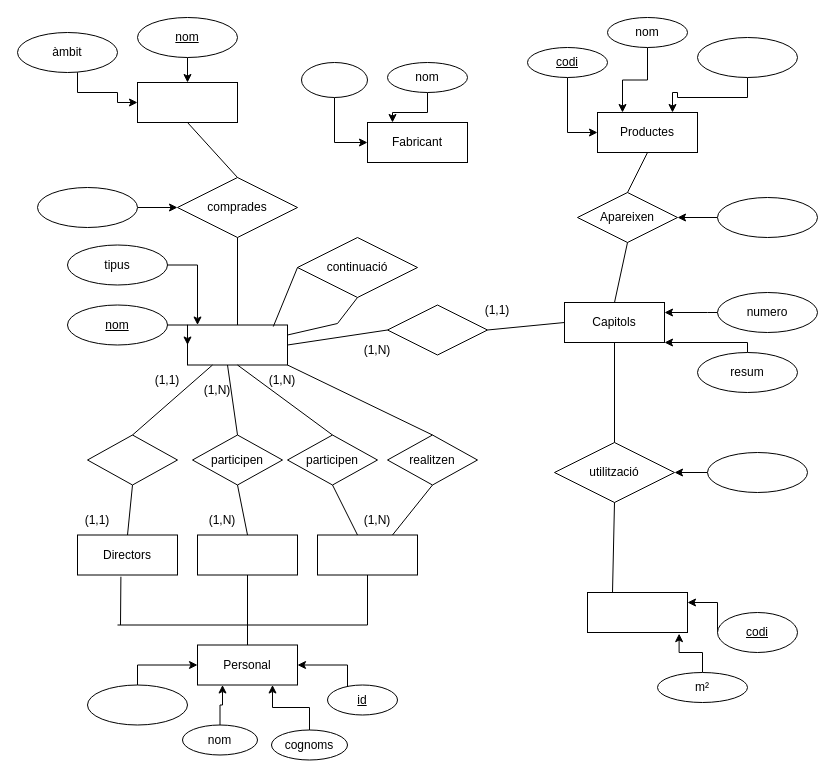
Image size: 835x778. Some labels were removed from this diagram. Here are the shapes that lost their labels. From the top down, the box of each, then its label:
(696, 36, 798, 78): empresa fabricant
(300, 62, 368, 98): CIF
(136, 82, 238, 122): Cadenes TV
(36, 186, 138, 228): preu venda
(716, 196, 818, 238): preu_pagat
(186, 324, 288, 365): Sèries
(386, 304, 488, 355): consta
(86, 434, 178, 485): dirigeix
(706, 452, 808, 492): data
(196, 534, 298, 575): Guionistes
(316, 534, 418, 575): Actors
(586, 592, 688, 632): Plató
(86, 684, 188, 725): num.seg.social
